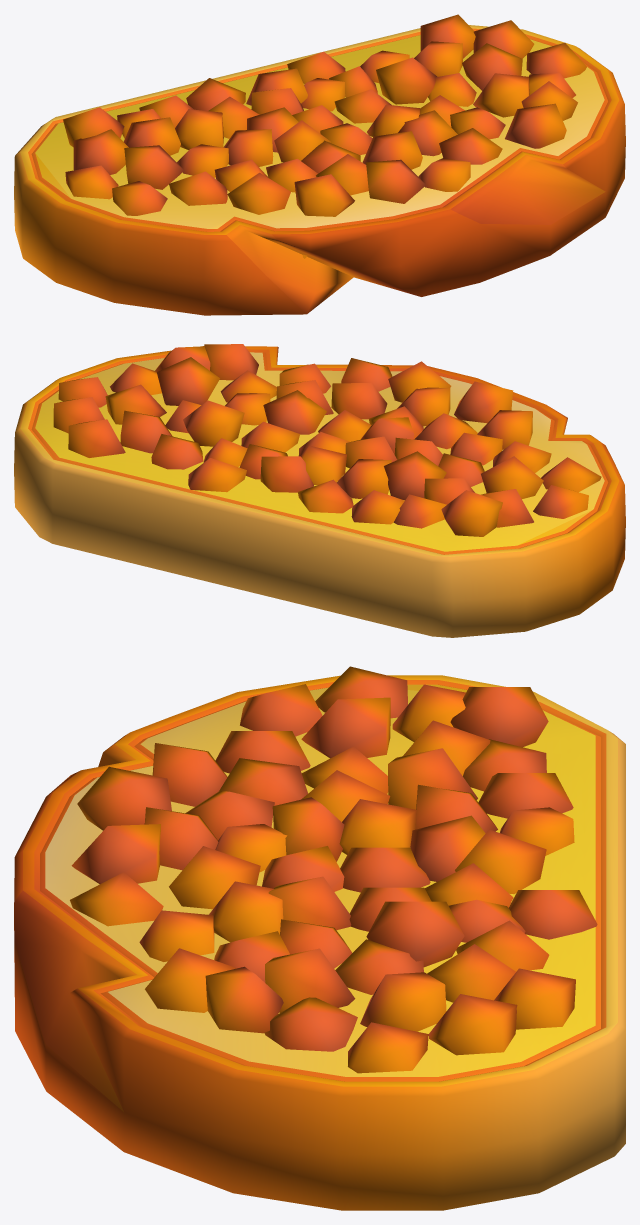
The model's file is sandwich_005.fbx.
The picture shows the model from 3 angles, top to bottom: view 1: azimuth 30°, elevation 25°; view 2: azimuth 150°, elevation 25°; view 3: azimuth 270°, elevation 25°; orthographic projection. The views are drawn at different scales.
Parts seen in each view (by area): view 1: sandwich_005; view 2: sandwich_005; view 3: sandwich_005.
Boxes of the visible parts, left/top/right/bottom form: sandwich_005: left=14, top=14, right=625, bottom=315; sandwich_005: left=14, top=344, right=625, bottom=637; sandwich_005: left=14, top=666, right=625, bottom=1210.
Bounding box in the file's own units: 14.33 × 8.83 × 2.81.
